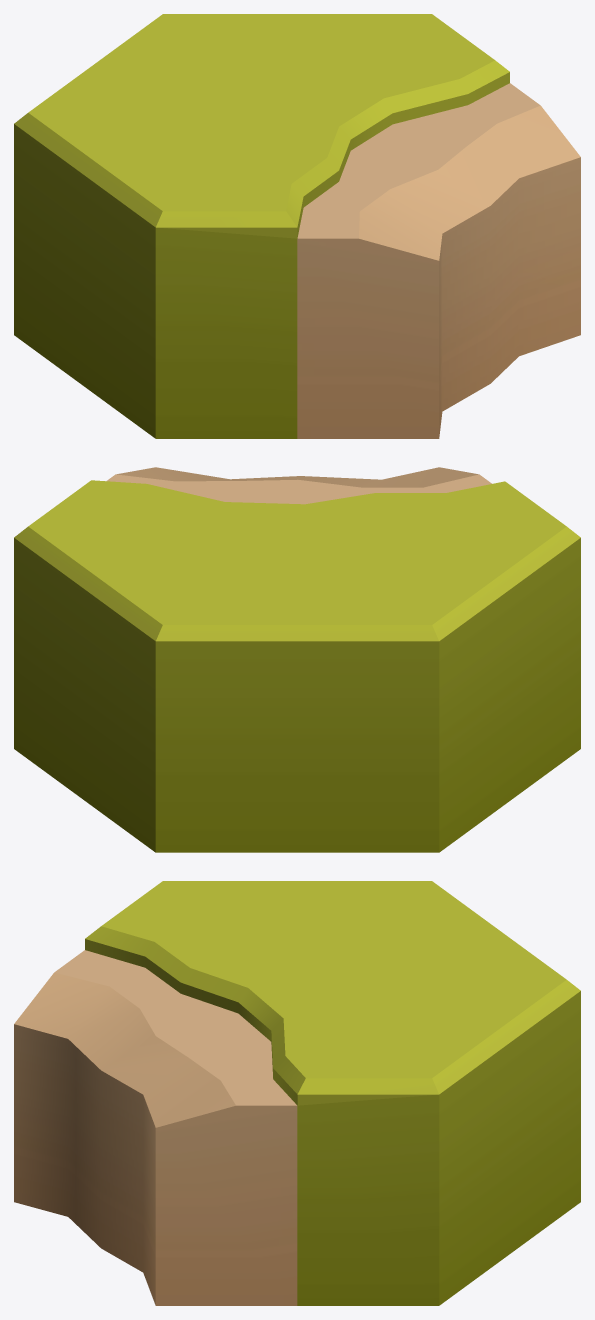
File: kaykit-medieval-hexagon-pack-hex-coast-a-waterless.glb
The picture shows the model from 3 angles, top to bottom: view 1: azimuth 30°, elevation 25°; view 2: azimuth 150°, elevation 25°; view 3: azimuth 270°, elevation 25°; orthographic projection.
Parts seen in each view (by area): view 1: hex_coast_A_waterless; view 2: hex_coast_A_waterless; view 3: hex_coast_A_waterless.
Part boxes in pixels (left/top/right/bottom): hex_coast_A_waterless: left=14, top=14, right=580, bottom=438; hex_coast_A_waterless: left=14, top=467, right=580, bottom=852; hex_coast_A_waterless: left=14, top=881, right=580, bottom=1305.
Size of the model in its own units: 2 by 1 by 2.31.
Materials: 1 (1 with a texture image).
